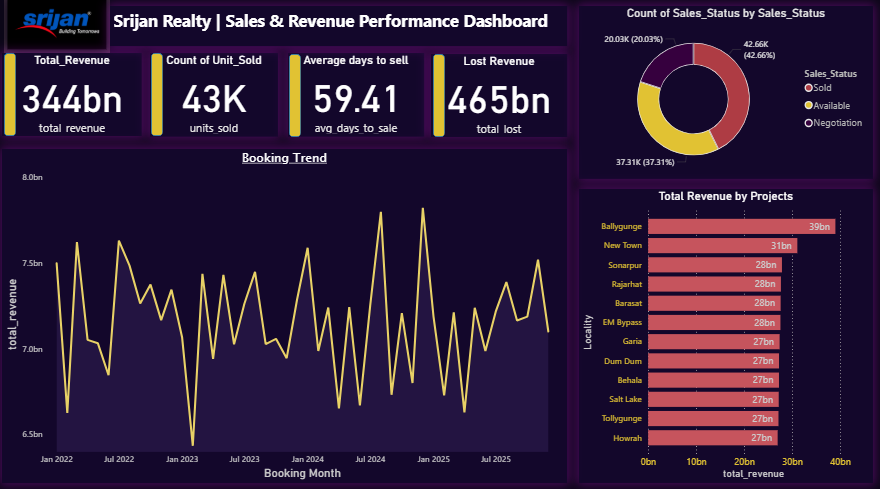

The dashboard page shown, as its layout file describes it:
{"tool":"powerbi","page":{"name":"Page 1","canvas":[1280,720],"ordinal":0},"visuals":[{"type":"image","box":[13,0,153.3,85.3],"z":0},{"type":"card","title":"Total_Revenue","fields":{"Values":["Srijan_data.total_revenue"]},"box":[10.1,85.3,202.4,120],"z":1000},{"type":"card","title":"Count of Unit_Sold","fields":{"Values":["Srijan_data.units_sold"]},"box":[224.1,85.3,185.1,121.4],"z":2000},{"type":"card","title":"Average days to sell","fields":{"Values":["Srijan_data.avg_days_to_sale"]},"box":[423.6,85.3,196.6,121.4],"z":3000},{"type":"card","title":"Lost  Revenue","fields":{"Values":["Srijan_data.total_lost"]},"box":[630.4,86.7,196.6,120],"z":4000},{"type":"donutChart","fields":{"Category":["Srijan_data.Sales_Status"],"Y":["CountNonNull(Srijan_data.Sales_Status)"]},"box":[844.3,17.3,425.1,250.1],"z":5000},{"type":"clusteredBarChart","title":"Total Revenue by Projects","fields":{"Category":["Srijan_data.Locality"],"Y":["Srijan_data.total_revenue"]},"box":[844.3,281.9,425.1,425.1],"z":6000},{"type":"lineChart","title":"Booking Trend","fields":{"Category":["Srijan_data.Booking_Date.Variation.Date Hierarchy.Year","Srijan_data.Booking_Date.Variation.Date Hierarchy.Month"],"Y":["Srijan_data.total_revenue"]},"box":[10.1,224.1,816.9,482.9],"z":7000},{"type":"textbox","box":[166.3,17.3,660.7,57.8],"z":8000},{"type":"shape","box":[13,85.3,17.3,120],"z":9000},{"type":"shape","box":[225.5,85.3,17.3,120],"z":10000},{"type":"shape","box":[425.1,86.7,17.3,120],"z":10001},{"type":"shape","box":[633.3,86.7,17.3,120],"z":10002}]}

Visuals, with their boxes in screenshot pixels (x1, y1, x2, y2), scaled from the page's 1280x720 canvas onto the 880x489 screenshot:
image: [9,0,114,58]
"Total_Revenue" card: [7,58,146,139]
"Count of Unit_Sold" card: [154,58,281,140]
"Average days to sell" card: [291,58,426,140]
"Lost  Revenue" card: [433,59,569,140]
donutChart - Srijan_data.Sales_Status x CountNonNull(Srijan_data.Sales_Status): [580,12,873,182]
"Total Revenue by Projects" clusteredBarChart: [580,191,873,480]
"Booking Trend" lineChart: [7,152,569,480]
textbox: [114,12,569,51]
shape: [9,58,21,139]
shape: [155,58,167,139]
shape: [292,59,304,140]
shape: [435,59,447,140]
